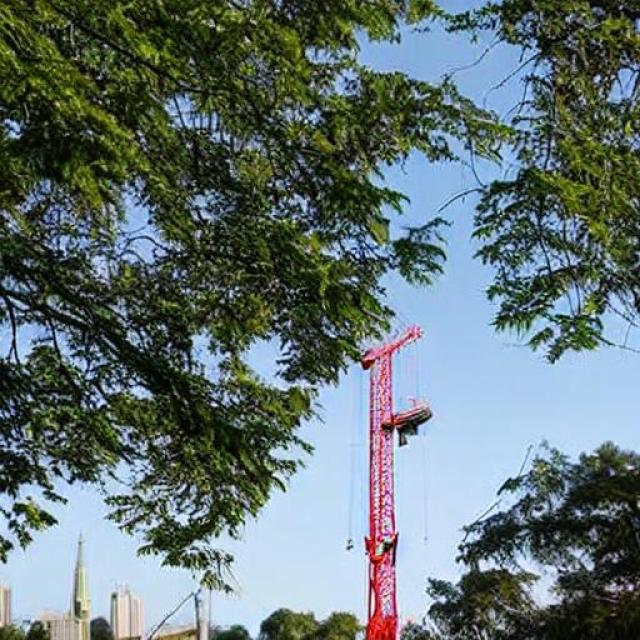crane: (128, 0, 558, 640)
